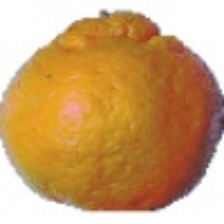tangerine: (7, 33, 188, 173)
